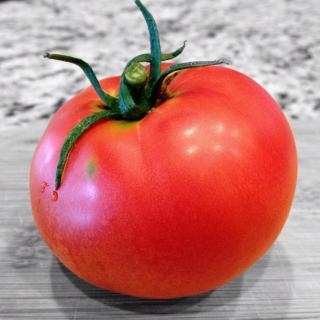tomato: (23, 0, 298, 299)
